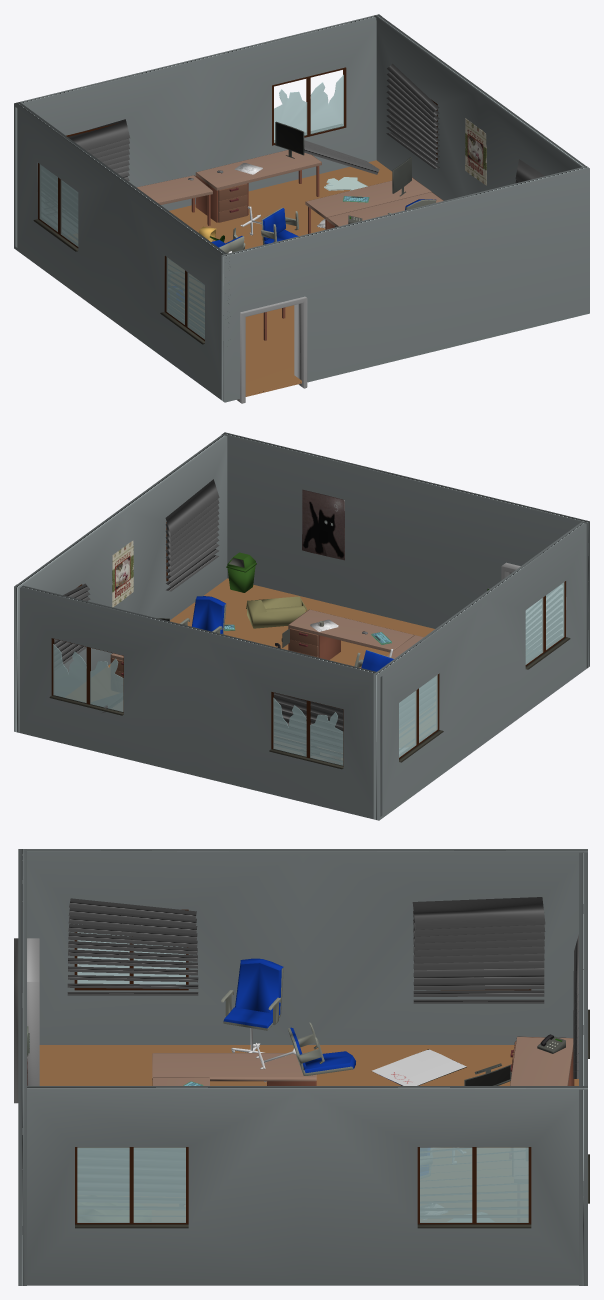
The model's file is Piso2.fbx.
3 renders of one model, top to bottom at view 1: azimuth 30°, elevation 25°; view 2: azimuth 150°, elevation 25°; view 3: azimuth 270°, elevation 25°, orthographic. The views are drawn at different scales.
Visible parts, largest first — view 1: Cube.003, Cube.033, Cube.016, Plane, Cube.001, Cube.084, Cube.018, Cube.085, Cube.014, Plane.012, Cube.019, Plane.006 (+5 smaller); view 2: Cube.033, Cube.003, Cube.016, Plane, Cube.085, Cube.001, Cube.084, Cube.017, Plane.003, Plane.026, Plane.012, Plane.006 (+3 smaller); view 3: Cube.016, Plane, Cube.082, Cube.001, Cube.003, Cube.013, Cube.033, Cube.023, Cube.019, Cube.084, Plane.014, Cube.024 (+2 smaller).
Boxes of the visible parts, x1,y1,x2,y2 form: Cube.003: [221, 166, 589, 403]; Cube.033: [15, 14, 381, 247]; Cube.016: [14, 102, 230, 399]; Plane: [373, 14, 585, 200]; Cube.001: [169, 160, 392, 396]; Cube.084: [38, 163, 204, 340]; Cube.018: [195, 149, 321, 222]; Cube.085: [66, 67, 346, 145]; Cube.014: [305, 177, 431, 233]; Plane.012: [68, 119, 129, 181]; Cube.019: [137, 175, 212, 225]; Plane.006: [465, 118, 486, 185]; Cube.033: [14, 584, 382, 819]; Cube.003: [221, 432, 589, 668]; Cube.016: [373, 522, 586, 820]; Plane: [14, 435, 227, 732]; Cube.085: [51, 638, 343, 766]; Cube.001: [108, 578, 434, 667]; Cube.084: [399, 581, 565, 758]; Cube.017: [288, 609, 414, 659]; Plane.003: [302, 489, 344, 560]; Plane.026: [246, 596, 307, 628]; Plane.012: [273, 692, 343, 760]; Plane.006: [112, 540, 133, 607]; Cube.016: [27, 849, 587, 1044]; Plane: [27, 1086, 587, 1285]; Cube.082: [75, 1147, 531, 1224]; Cube.001: [39, 1045, 578, 1085]; Cube.003: [14, 849, 39, 1285]; Cube.013: [152, 1053, 316, 1085]; Cube.033: [579, 852, 589, 1285]; Cube.023: [221, 958, 283, 1052]; Cube.019: [510, 1036, 574, 1085]; Cube.084: [74, 909, 531, 990]; Plane.014: [372, 1049, 466, 1085]; Cube.024: [252, 1022, 355, 1081].
Bounding box in the file's own units: 2015 × 780 × 2024.
79 materials, 10 textured.
